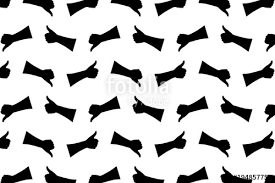thumbs_up: (68, 49, 191, 120)
